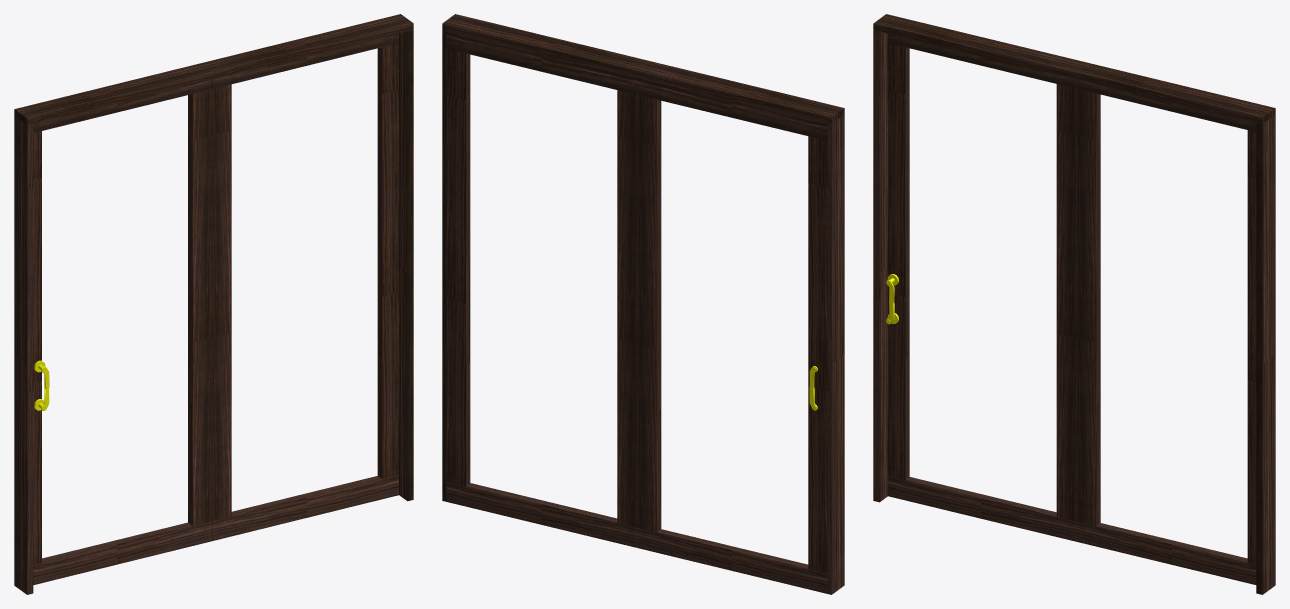
File: door.obj
The picture shows the model from 3 angles, left to right: view 1: azimuth 30°, elevation 25°; view 2: azimuth 150°, elevation 25°; view 3: azimuth 330°, elevation 25°; orthographic projection.
Visible parts, largest first — view 1: polySurface3; view 2: polySurface3; view 3: polySurface3.
Boxes of the visible parts, x1=… form: polySurface3: x1=14, y1=14, x2=413, y2=594; polySurface3: x1=442, y1=14, x2=844, y2=594; polySurface3: x1=873, y1=14, x2=1275, y2=594.
Size of the model in its own units: 13.28 by 15.61 by 0.917.
Materials: 3 (2 with a texture image).
